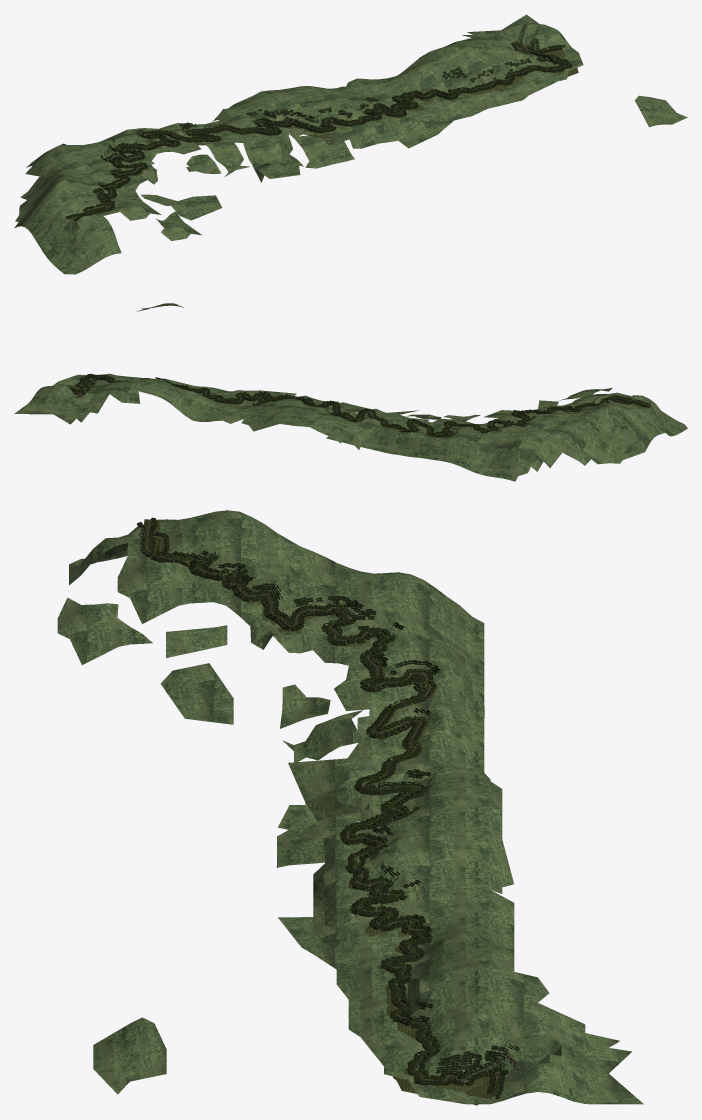
Rendered from usui.glb.
3 views of the same model, one above another, from view 1: azimuth 30°, elevation 25°; view 2: azimuth 150°, elevation 25°; view 3: azimuth 270°, elevation 25° (orthographic). The views are drawn at different scales.
Parts seen in each view (by area): view 1: col_158, col_105, col_6, col_42, col_184, col_200, vis_159, vis_43, vis_201, col_227, vis_106, vis_160 (+5 smaller); view 2: col_42, col_158, col_6, col_200, col_105, vis_43, vis_159, col_0, vis_106, col_184, vis_201, vis_160 (+2 smaller); view 3: col_158, col_105, col_42, col_200, col_6, col_184, vis_43, vis_159, col_227, vis_106, vis_201, vis_160 (+5 smaller).
Boxes of the visible parts, box(x1,y1,x2,y2) form: col_158: box(262, 37, 539, 140); col_105: box(62, 136, 317, 240); col_6: box(14, 167, 130, 274); col_42: box(30, 91, 299, 169); col_184: box(296, 109, 486, 168); col_200: box(462, 14, 583, 94); vis_159: box(279, 61, 524, 131); vis_43: box(104, 109, 292, 155); vis_201: box(510, 38, 572, 74); col_227: box(634, 95, 687, 127); vis_106: box(97, 150, 147, 199); vis_160: box(287, 71, 520, 129); col_42: box(310, 409, 557, 481); col_158: box(88, 378, 356, 431); col_6: box(555, 392, 687, 464); col_200: box(14, 373, 153, 424); col_105: box(352, 388, 612, 435); vis_43: box(335, 409, 519, 437); vis_159: box(131, 377, 342, 415); col_0: box(531, 435, 587, 471); vis_106: box(488, 402, 595, 426); col_184: box(196, 386, 371, 411); vis_201: box(61, 373, 130, 396); vis_160: box(181, 386, 341, 415); col_158: box(336, 789, 585, 1049); col_105: box(57, 559, 363, 837); col_42: box(337, 570, 502, 821); col_200: box(361, 1000, 643, 1104); col_6: box(69, 510, 349, 585); col_184: box(276, 814, 360, 998); vis_43: box(348, 599, 440, 811); vis_159: box(349, 799, 446, 1035); col_227: box(93, 1017, 166, 1094); vis_106: box(186, 557, 353, 645); vis_201: box(407, 1027, 519, 1099); vis_160: box(350, 808, 428, 1033).
Size of the model in its own units: 5294 by 656 by 2490.
Materials: 86 (86 with a texture image).
